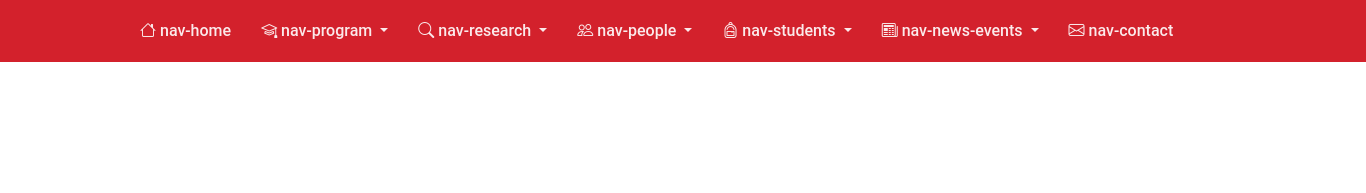
Scenario: NavigationComponent › opens a dropdown with its pages and closes it with Escape
The image size is (1366, 193).
Click the button with class "dropdown-toggle" showing "nav-program": (325, 31) [246, 8, 403, 54]
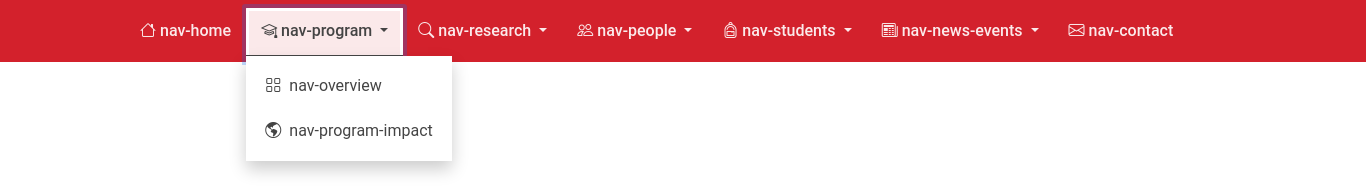
Check: the button with class "dropdown-toggle" is expanded
Press Escape in the button with class "dropdown-toggle" showing "nav-program", box [246, 8, 403, 61]
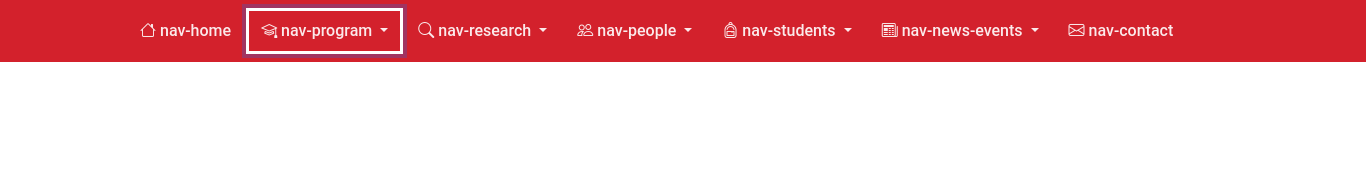
Check: the button with class "dropdown-toggle" is collapsed, box [246, 8, 403, 54]
